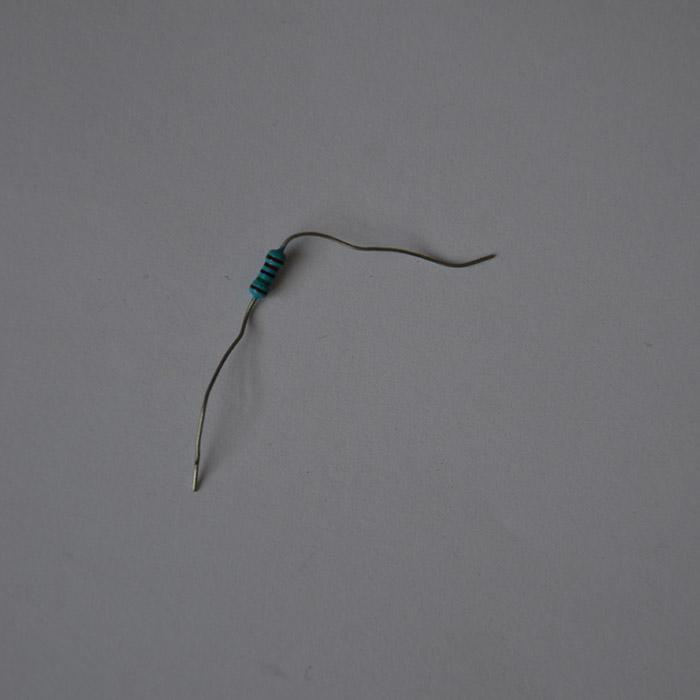resistor: (244, 248, 291, 299)
